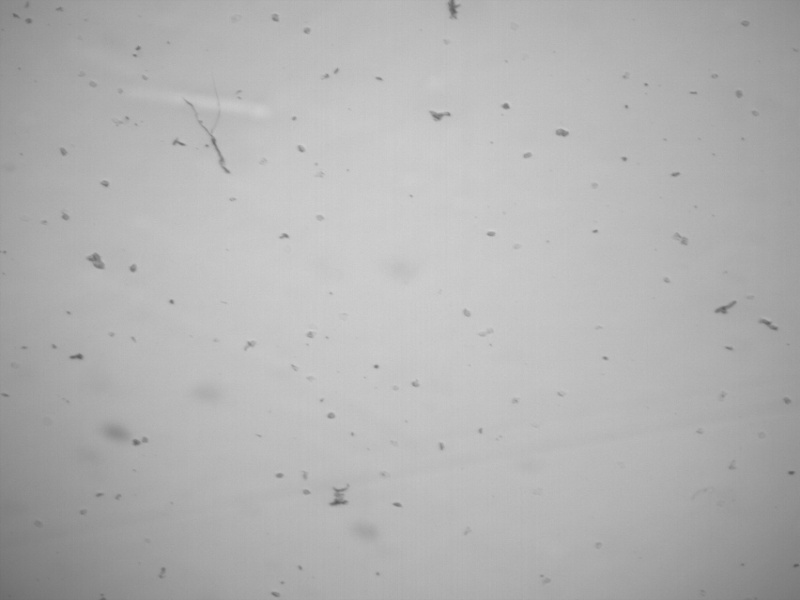fiber: (181, 76, 232, 178)
